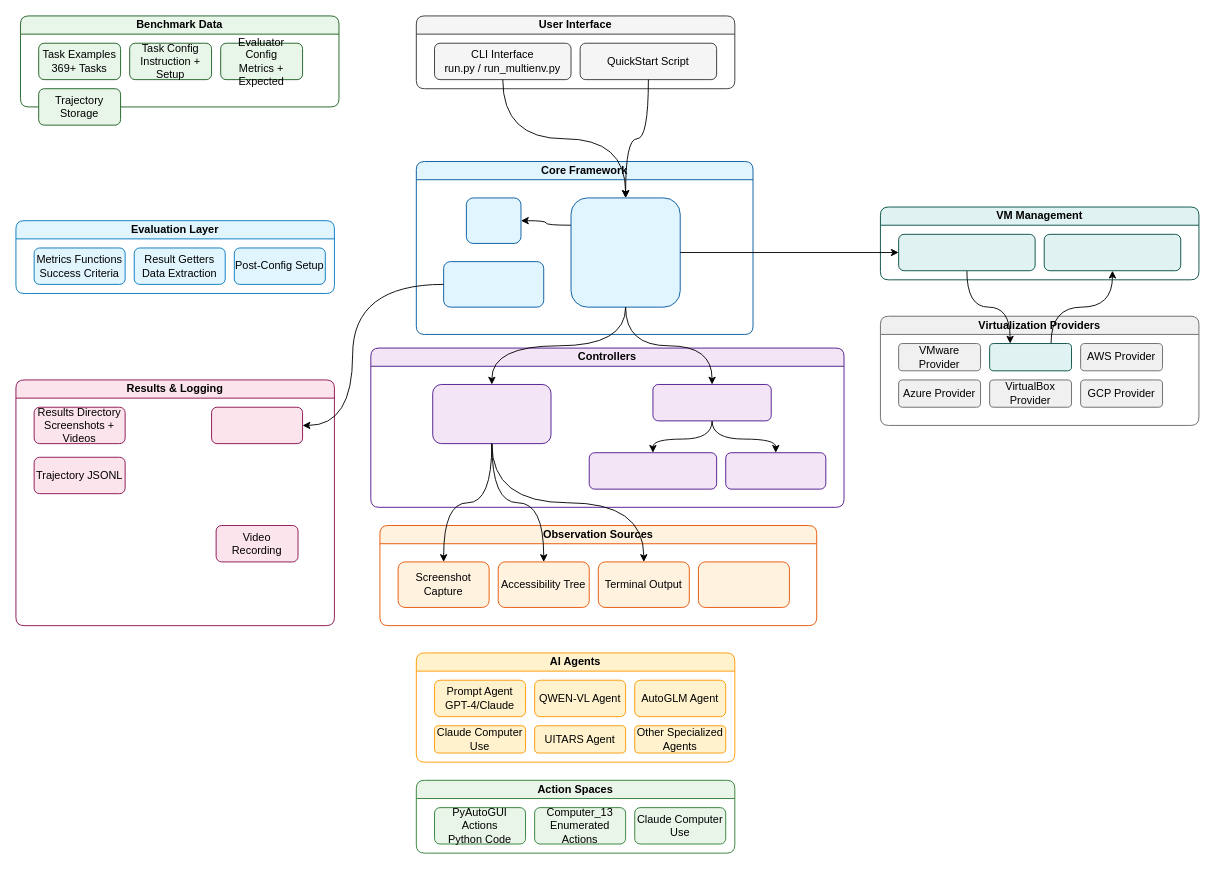
The diagram is 1215 pixels wide and 869 high, and some of its shapes have lost their labels. Here are the shapes that lost their labels. From the top down, the centre of each, then its label:
At pixel 493 220: "Logging System".
At pixel 625 252: "Main Controller DesktopEnv".
At pixel 966 252: "VM Manager Registry & Allocation".
At pixel 1112 252: "Snapshot Management Init State".
At pixel 493 284: "Lib Run Single Execution Engine".
At pixel 1030 357: "Docker Provider".
At pixel 491 414: "Python Controller Action Execution".
At pixel 711 402: "Setup Controller Environment Setup".
At pixel 257 425: "Summary Statistics".
At pixel 652 470: "Chromium Controller Browser Control".
At pixel 775 470: "VLC Controller Media Control".
At pixel 743 584: "Browser Debug".
